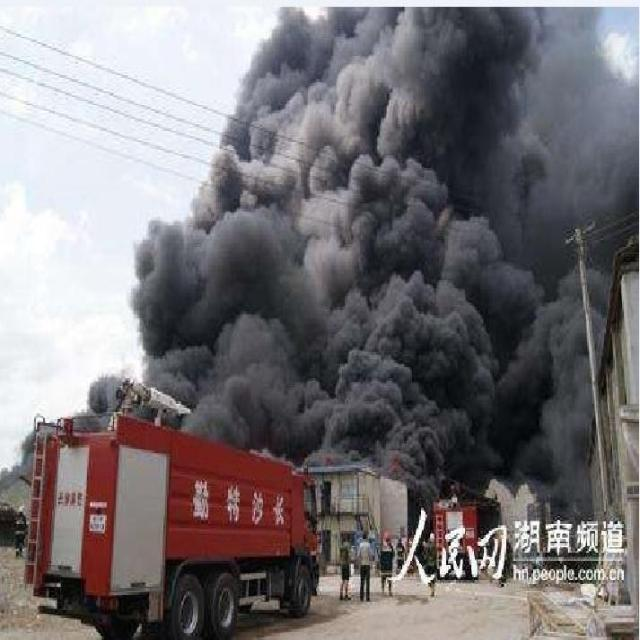Smoke: (69, 7, 640, 535), (2, 430, 35, 490)
